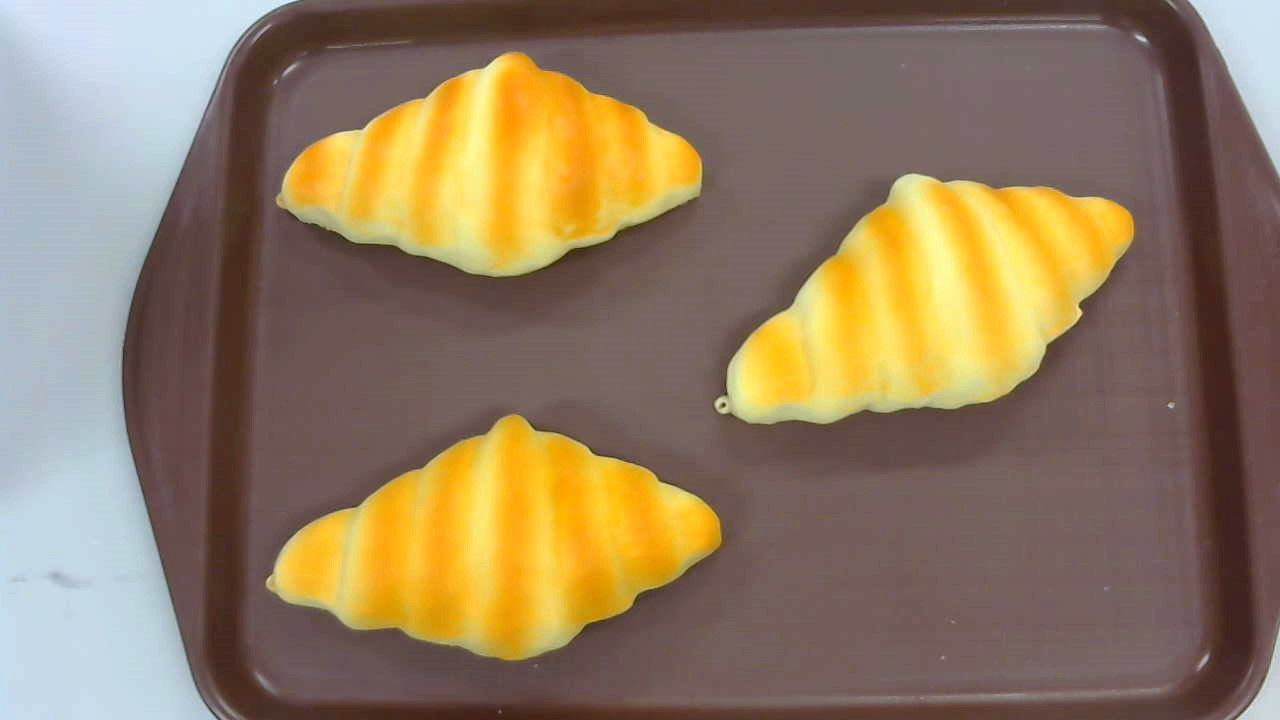croissant: (266, 413, 723, 662), (714, 173, 1135, 427), (276, 48, 703, 280)
